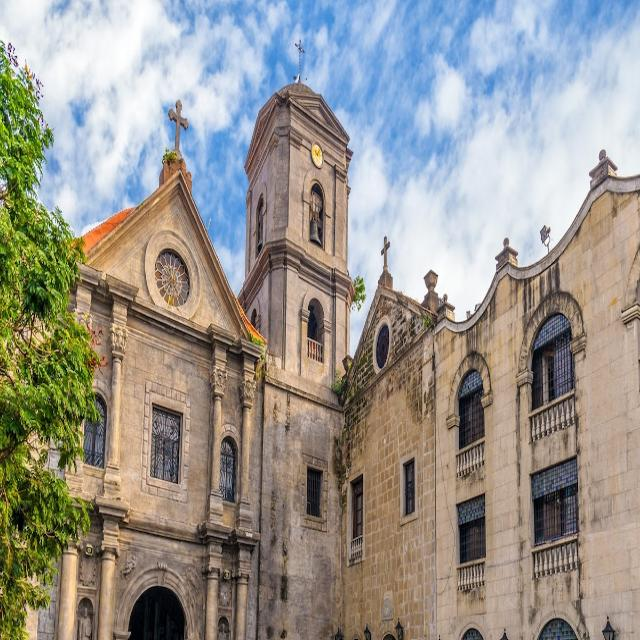San Agustin Church: (14, 21, 352, 640)
